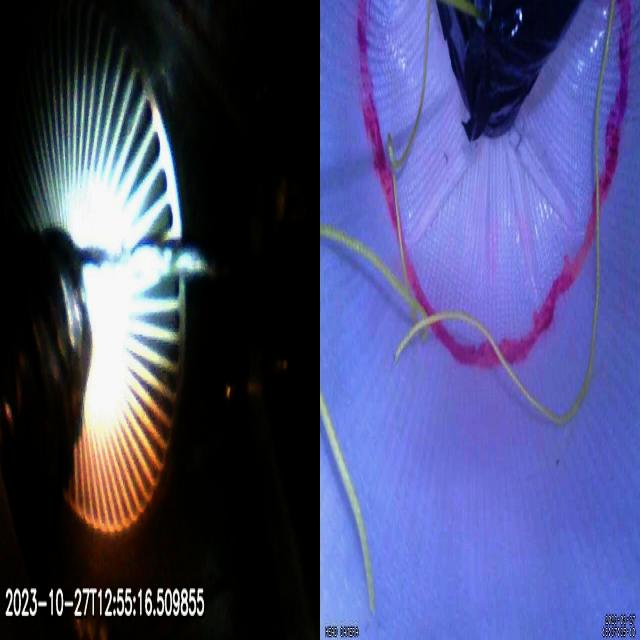red-circle: (355, 1, 633, 370)
